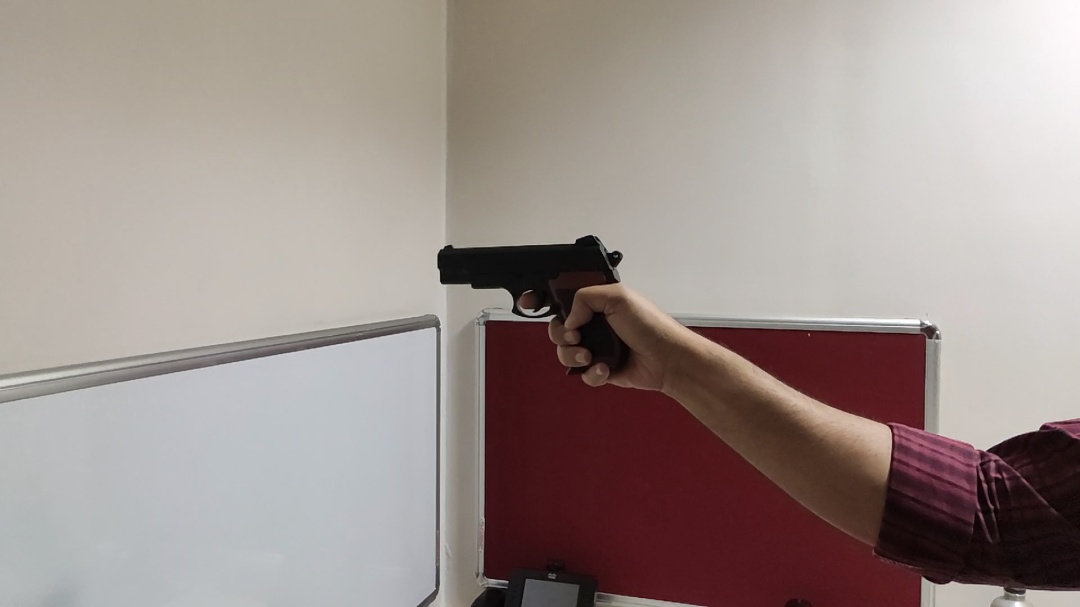gun: (433, 234, 639, 379)
